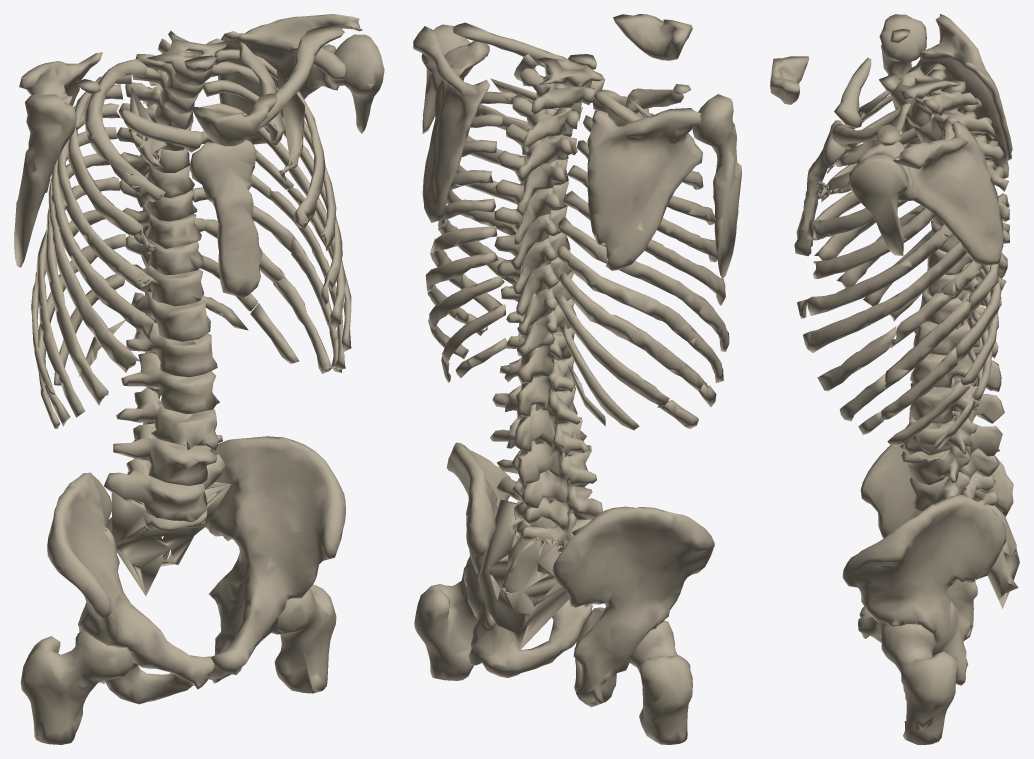
Rendered from tsd_s0327_older_adult_male.skeletal.LOD4.glb.
3 views of the same model, side by side, from view 1: azimuth 30°, elevation 25°; view 2: azimuth 150°, elevation 25°; view 3: azimuth 270°, elevation 25° (orthographic). The views are drawn at different scales.
Visible parts, largest first — view 1: TSD_S0327.OLDER_ADULT.MALE.SKELETAL.HIP_BONE_OS_COXAE.L, TSD_S0327.OLDER_ADULT.MALE.SKELETAL.HIP_BONE_OS_COXAE.R, TSD_S0327.OLDER_ADULT.MALE.SKELETAL.FEMUR.R, TSD_S0327.OLDER_ADULT.MALE.SKELETAL.STERNUM, TSD_S0327.OLDER_ADULT.MALE.SKELETAL.SCAPULA.L, TSD_S0327.OLDER_ADULT.MALE.SKELETAL.HUMERUS.R, TSD_S0327.OLDER_ADULT.MALE.SKELETAL.FEMUR.L, TSD_S0327.OLDER_ADULT.MALE.SKELETAL.SACRUM, TSD_S0327.OLDER_ADULT.MALE.SKELETAL.VERTEBRA_L5, TSD_S0327.OLDER_ADULT.MALE.SKELETAL.VERTEBRA_L4, TSD_S0327.OLDER_ADULT.MALE.SKELETAL.RIB_2.R, TSD_S0327.OLDER_ADULT.MALE.SKELETAL.VERTEBRA_L3 (+41 smaller); view 2: TSD_S0327.OLDER_ADULT.MALE.SKELETAL.HIP_BONE_OS_COXAE.R, TSD_S0327.OLDER_ADULT.MALE.SKELETAL.SCAPULA.R, TSD_S0327.OLDER_ADULT.MALE.SKELETAL.HIP_BONE_OS_COXAE.L, TSD_S0327.OLDER_ADULT.MALE.SKELETAL.SACRUM, TSD_S0327.OLDER_ADULT.MALE.SKELETAL.SCAPULA.L, TSD_S0327.OLDER_ADULT.MALE.SKELETAL.FEMUR.R, TSD_S0327.OLDER_ADULT.MALE.SKELETAL.FEMUR.L, TSD_S0327.OLDER_ADULT.MALE.SKELETAL.HUMERUS.R, TSD_S0327.OLDER_ADULT.MALE.SKELETAL.RIB_8.R, TSD_S0327.OLDER_ADULT.MALE.SKELETAL.RIB_9.R, TSD_S0327.OLDER_ADULT.MALE.SKELETAL.RIB_7.R, TSD_S0327.OLDER_ADULT.MALE.SKELETAL.VERTEBRA_L3 (+37 smaller); view 3: TSD_S0327.OLDER_ADULT.MALE.SKELETAL.HIP_BONE_OS_COXAE.L, TSD_S0327.OLDER_ADULT.MALE.SKELETAL.SCAPULA.L, TSD_S0327.OLDER_ADULT.MALE.SKELETAL.FEMUR.L, TSD_S0327.OLDER_ADULT.MALE.SKELETAL.HIP_BONE_OS_COXAE.R, TSD_S0327.OLDER_ADULT.MALE.SKELETAL.SCAPULA.R, TSD_S0327.OLDER_ADULT.MALE.SKELETAL.HUMERUS.L, TSD_S0327.OLDER_ADULT.MALE.SKELETAL.RIB_9.L, TSD_S0327.OLDER_ADULT.MALE.SKELETAL.RIB_6.L, TSD_S0327.OLDER_ADULT.MALE.SKELETAL.RIB_5.L, TSD_S0327.OLDER_ADULT.MALE.SKELETAL.VERTEBRA_L4, TSD_S0327.OLDER_ADULT.MALE.SKELETAL.VERTEBRA_L3, TSD_S0327.OLDER_ADULT.MALE.SKELETAL.RIB_8.L (+30 smaller).
Part boxes in pixels (x1=…): TSD_S0327.OLDER_ADULT.MALE.SKELETAL.HIP_BONE_OS_COXAE.L: x1=205, y1=436, x2=345, y2=683; TSD_S0327.OLDER_ADULT.MALE.SKELETAL.HIP_BONE_OS_COXAE.R: x1=47, y1=472, x2=214, y2=704; TSD_S0327.OLDER_ADULT.MALE.SKELETAL.FEMUR.R: x1=20, y1=631, x2=133, y2=744; TSD_S0327.OLDER_ADULT.MALE.SKELETAL.STERNUM: x1=190, y1=140, x2=262, y2=297; TSD_S0327.OLDER_ADULT.MALE.SKELETAL.SCAPULA.L: x1=218, y1=14, x2=362, y2=144; TSD_S0327.OLDER_ADULT.MALE.SKELETAL.HUMERUS.R: x1=14, y1=94, x2=76, y2=267; TSD_S0327.OLDER_ADULT.MALE.SKELETAL.FEMUR.L: x1=271, y1=584, x2=336, y2=693; TSD_S0327.OLDER_ADULT.MALE.SKELETAL.SACRUM: x1=106, y1=482, x2=230, y2=595; TSD_S0327.OLDER_ADULT.MALE.SKELETAL.VERTEBRA_L5: x1=104, y1=454, x2=225, y2=522; TSD_S0327.OLDER_ADULT.MALE.SKELETAL.VERTEBRA_L4: x1=113, y1=423, x2=222, y2=485; TSD_S0327.OLDER_ADULT.MALE.SKELETAL.RIB_2.R: x1=84, y1=59, x2=165, y2=202; TSD_S0327.OLDER_ADULT.MALE.SKELETAL.VERTEBRA_L3: x1=116, y1=387, x2=219, y2=450; TSD_S0327.OLDER_ADULT.MALE.SKELETAL.HIP_BONE_OS_COXAE.R: x1=552, y1=506, x2=714, y2=707; TSD_S0327.OLDER_ADULT.MALE.SKELETAL.SCAPULA.R: x1=587, y1=108, x2=703, y2=270; TSD_S0327.OLDER_ADULT.MALE.SKELETAL.HIP_BONE_OS_COXAE.L: x1=446, y1=442, x2=592, y2=677; TSD_S0327.OLDER_ADULT.MALE.SKELETAL.SACRUM: x1=478, y1=499, x2=591, y2=650; TSD_S0327.OLDER_ADULT.MALE.SKELETAL.SCAPULA.L: x1=413, y1=26, x2=489, y2=222; TSD_S0327.OLDER_ADULT.MALE.SKELETAL.FEMUR.R: x1=629, y1=620, x2=692, y2=744; TSD_S0327.OLDER_ADULT.MALE.SKELETAL.FEMUR.L: x1=414, y1=566, x2=477, y2=680; TSD_S0327.OLDER_ADULT.MALE.SKELETAL.HUMERUS.R: x1=692, y1=94, x2=741, y2=278; TSD_S0327.OLDER_ADULT.MALE.SKELETAL.RIB_8.R: x1=557, y1=244, x2=723, y2=382; TSD_S0327.OLDER_ADULT.MALE.SKELETAL.RIB_9.R: x1=559, y1=271, x2=708, y2=390; TSD_S0327.OLDER_ADULT.MALE.SKELETAL.RIB_7.R: x1=558, y1=217, x2=729, y2=351; TSD_S0327.OLDER_ADULT.MALE.SKELETAL.VERTEBRA_L3: x1=490, y1=417, x2=590, y2=488; TSD_S0327.OLDER_ADULT.MALE.SKELETAL.HIP_BONE_OS_COXAE.L: x1=842, y1=494, x2=1006, y2=685; TSD_S0327.OLDER_ADULT.MALE.SKELETAL.SCAPULA.L: x1=856, y1=121, x2=1003, y2=265; TSD_S0327.OLDER_ADULT.MALE.SKELETAL.FEMUR.L: x1=880, y1=623, x2=957, y2=744; TSD_S0327.OLDER_ADULT.MALE.SKELETAL.HIP_BONE_OS_COXAE.R: x1=859, y1=443, x2=1013, y2=640; TSD_S0327.OLDER_ADULT.MALE.SKELETAL.SCAPULA.R: x1=916, y1=14, x2=1012, y2=178; TSD_S0327.OLDER_ADULT.MALE.SKELETAL.HUMERUS.L: x1=848, y1=154, x2=907, y2=255; TSD_S0327.OLDER_ADULT.MALE.SKELETAL.RIB_9.L: x1=858, y1=265, x2=1001, y2=434; TSD_S0327.OLDER_ADULT.MALE.SKELETAL.RIB_6.L: x1=803, y1=241, x2=966, y2=352; TSD_S0327.OLDER_ADULT.MALE.SKELETAL.RIB_5.L: x1=797, y1=224, x2=952, y2=318; TSD_S0327.OLDER_ADULT.MALE.SKELETAL.VERTEBRA_L4: x1=900, y1=442, x2=999, y2=484; TSD_S0327.OLDER_ADULT.MALE.SKELETAL.VERTEBRA_L3: x1=903, y1=410, x2=1002, y2=456; TSD_S0327.OLDER_ADULT.MALE.SKELETAL.RIB_8.L: x1=839, y1=264, x2=999, y2=421.
Size of the model in its own units: 0.3354 by 0.644 by 0.2418.
